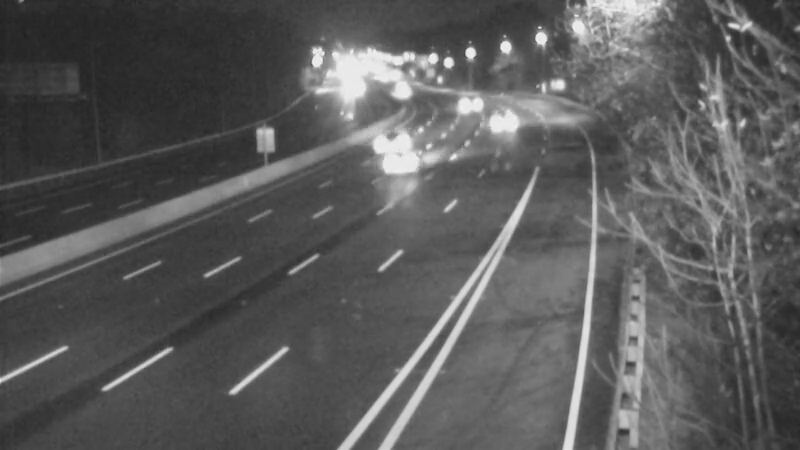vehicle: (368, 114, 448, 194), (363, 113, 413, 163), (472, 92, 522, 142), (443, 77, 493, 127)
